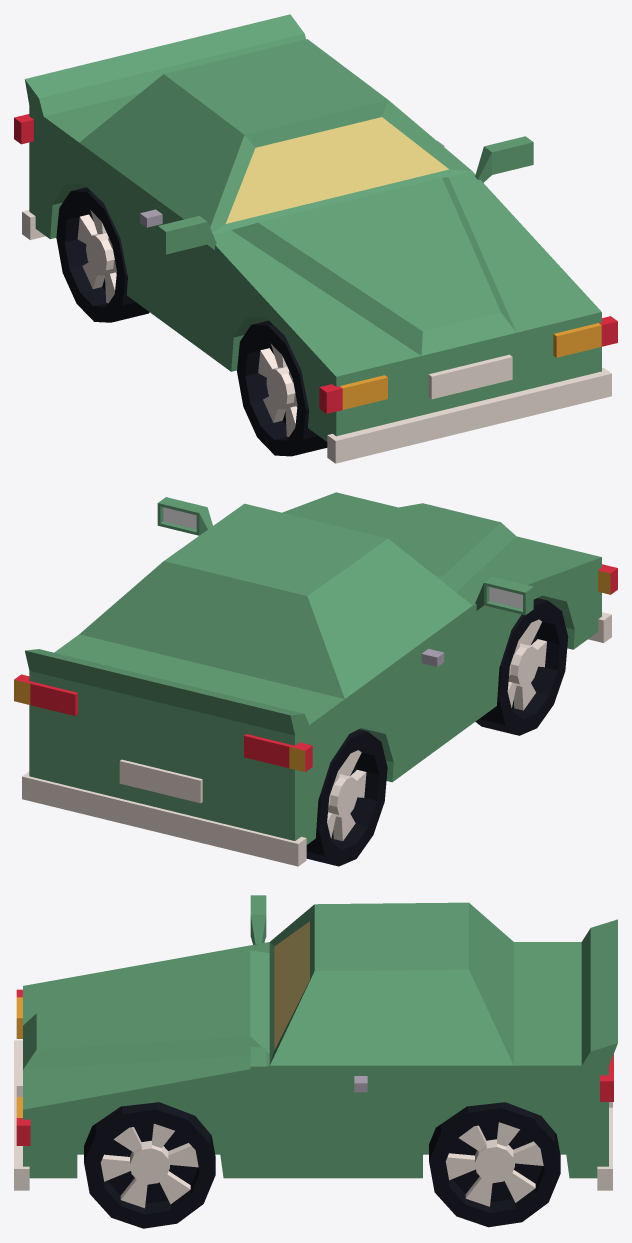
File: carrito verde.fbx
3 views of the same model, one above another, from view 1: azimuth 30°, elevation 25°; view 2: azimuth 150°, elevation 25°; view 3: azimuth 270°, elevation 25° (orthographic). The views are drawn at different scales.
Parts seen in each view (by area): view 1: Cube.001; view 2: Cube.001; view 3: Cube.001.
Boxes of the visible parts, box(x1,y1,x2,y2) form: Cube.001: box(14, 14, 617, 463); Cube.001: box(14, 492, 617, 866); Cube.001: box(14, 895, 617, 1228).
Size of the model in its own units: 277 by 174 by 412.
